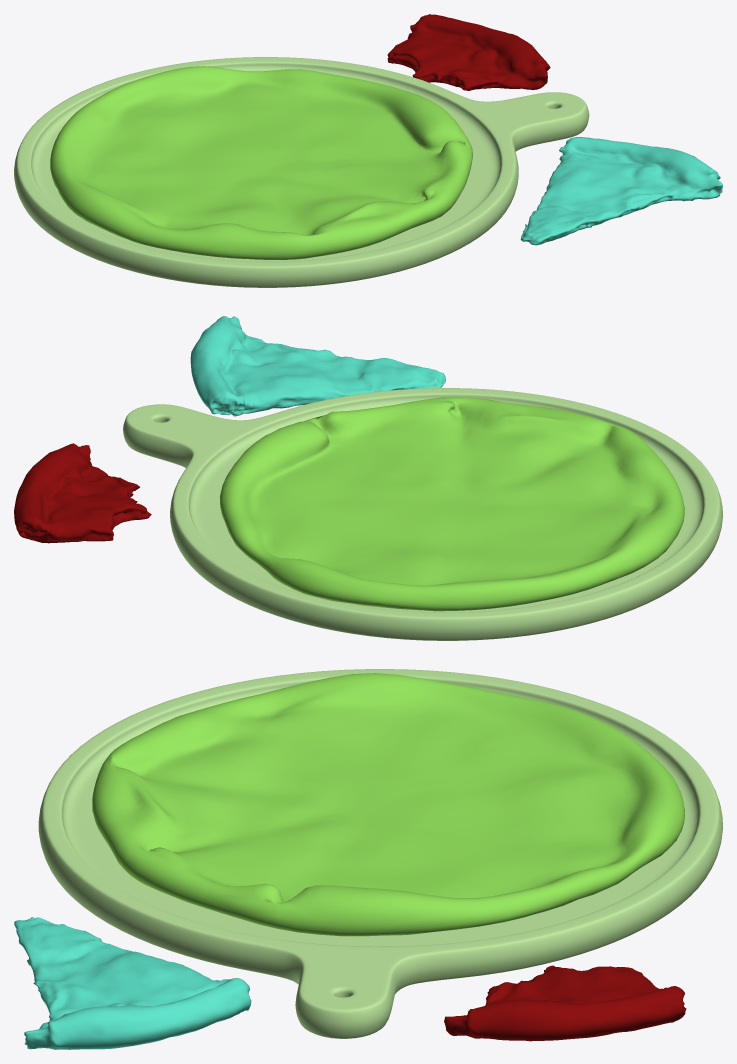
Rendered from WC_Pizza.obj.
The picture shows the model from 3 angles, top to bottom: view 1: azimuth 30°, elevation 25°; view 2: azimuth 150°, elevation 25°; view 3: azimuth 270°, elevation 25°; orthographic projection. The views are drawn at different scales.
Parts seen in each view (by area): view 1: Pizza, Pizza_Base, Pizza_Slice_01, Pizza_Slice_02; view 2: Pizza, Pizza_Base, Pizza_Slice_01, Pizza_Slice_02; view 3: Pizza, Pizza_Base, Pizza_Slice_01, Pizza_Slice_02.
Boxes of the visible parts, x1,y1,x2,y2 form: Pizza: (50, 66, 473, 259); Pizza_Base: (14, 57, 589, 287); Pizza_Slice_01: (520, 137, 722, 245); Pizza_Slice_02: (387, 14, 550, 90); Pizza: (220, 397, 684, 611); Pizza_Base: (123, 388, 722, 640); Pizza_Slice_01: (190, 316, 445, 416); Pizza_Slice_02: (14, 443, 151, 543); Pizza: (92, 673, 684, 936); Pizza_Base: (38, 669, 722, 1038); Pizza_Slice_01: (14, 917, 251, 1049); Pizza_Slice_02: (444, 965, 686, 1041).
Bounding box in the file's own units: 21.18 × 1.45 × 17.39.
